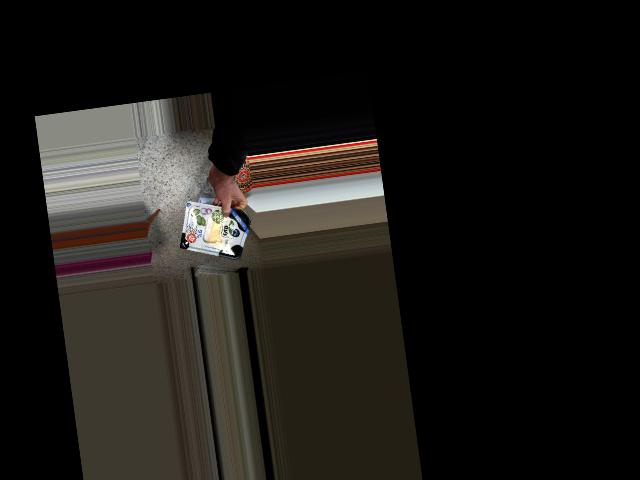cheese: (180, 204, 249, 259)
